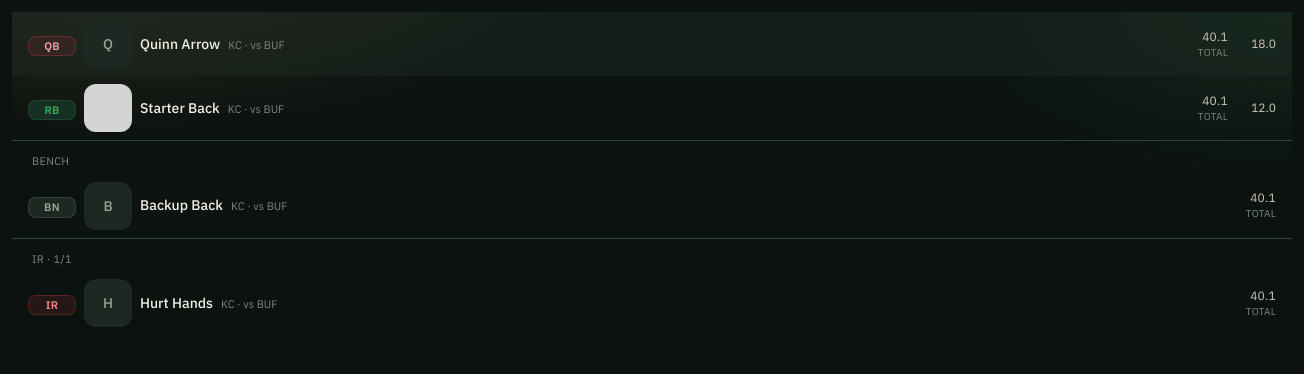
it: LineupBoard › shows the player being subbed, their position color, and who they replace
This screenshot has width=1304, height=374.
Step 1. Click the button with aria-label "Move Backup Back" → x=52, y=206, box x1=28 y1=193 x2=76 y2=218
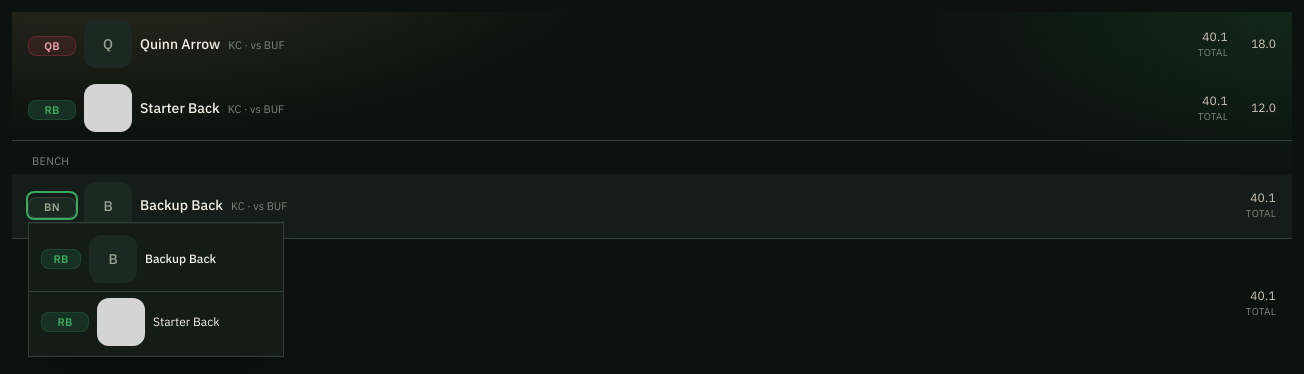
Now the element with test id "sub-player" shows "Backup Back", box x1=145 y1=251 x2=216 y2=266
Now the menu item with aria-label "Start at RB, replace Starter Back" shows "Starter Back", box x1=29 y1=292 x2=283 y2=352
Now the 2nd text "RB" is shown, box x1=41 y1=312 x2=89 y2=332
